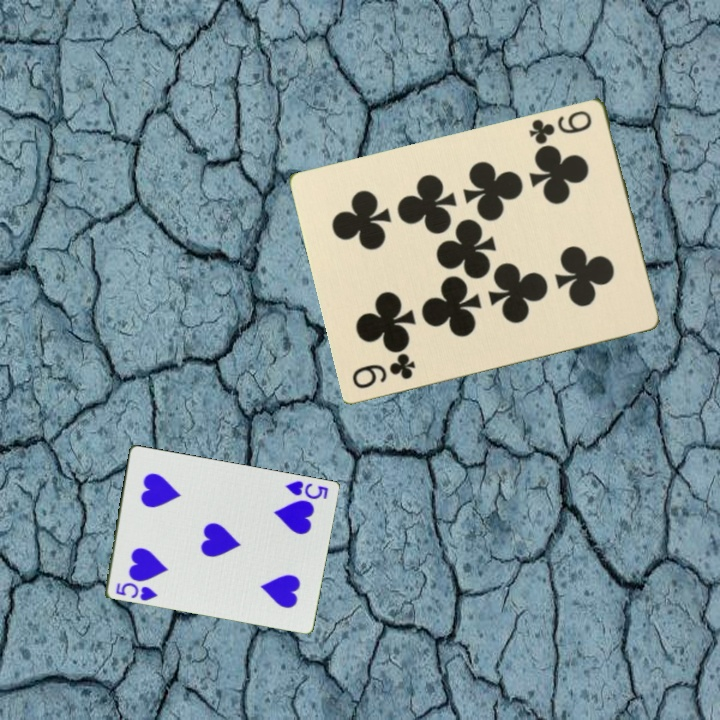5h: (281, 477, 331, 503), (112, 579, 160, 604)
9c: (525, 106, 595, 147), (348, 353, 419, 391)
